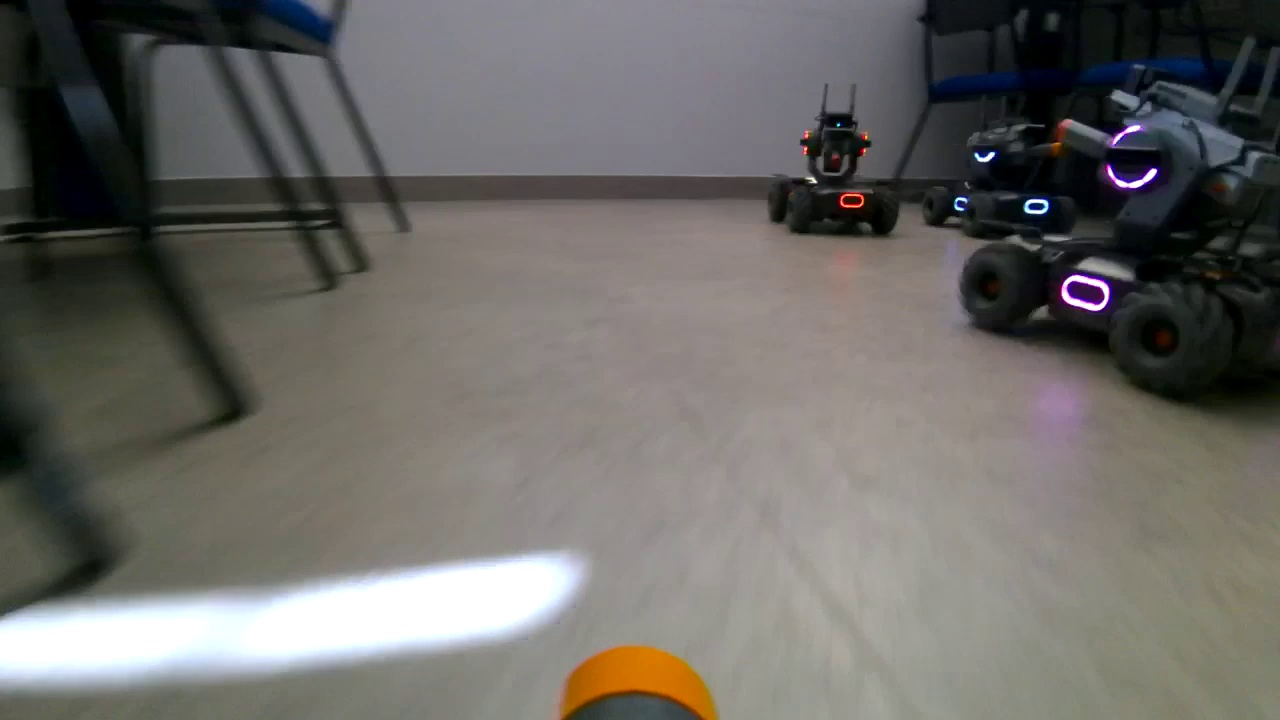robot: (958, 35, 1280, 406), (921, 94, 1076, 247), (763, 80, 903, 237)
